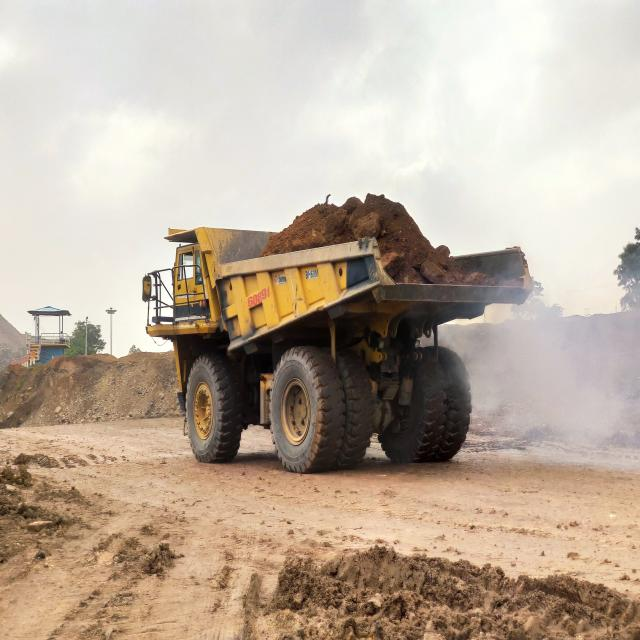dump_truck: (132, 195, 530, 471)
